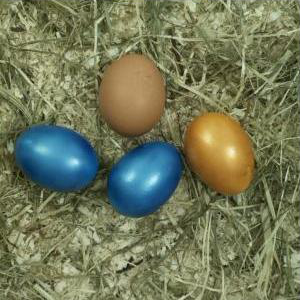egg: (182, 109, 256, 194), (15, 126, 99, 191), (108, 143, 182, 216)
